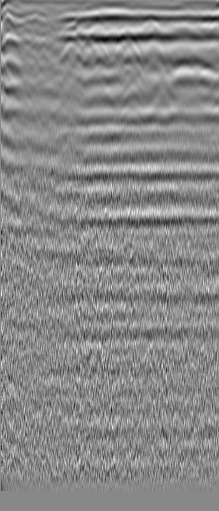오수: (26, 35, 46, 55)
우수: (172, 20, 192, 40)
